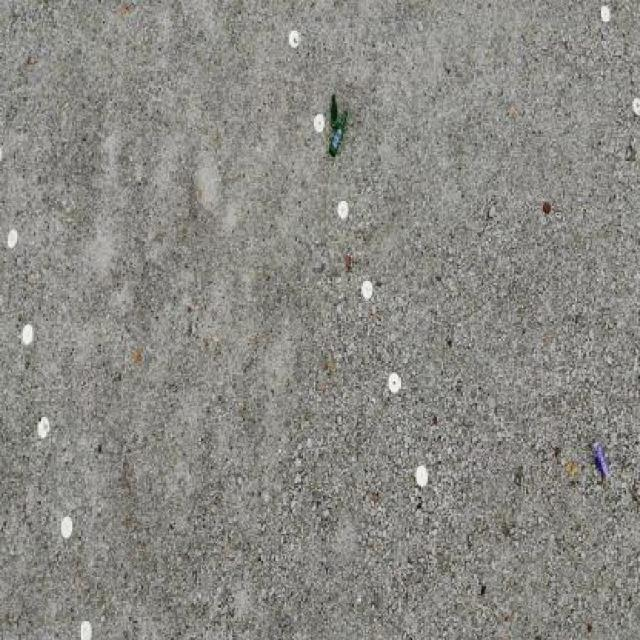Garbage: (327, 110, 348, 156), (592, 439, 612, 481), (330, 92, 338, 129), (544, 202, 549, 213)
